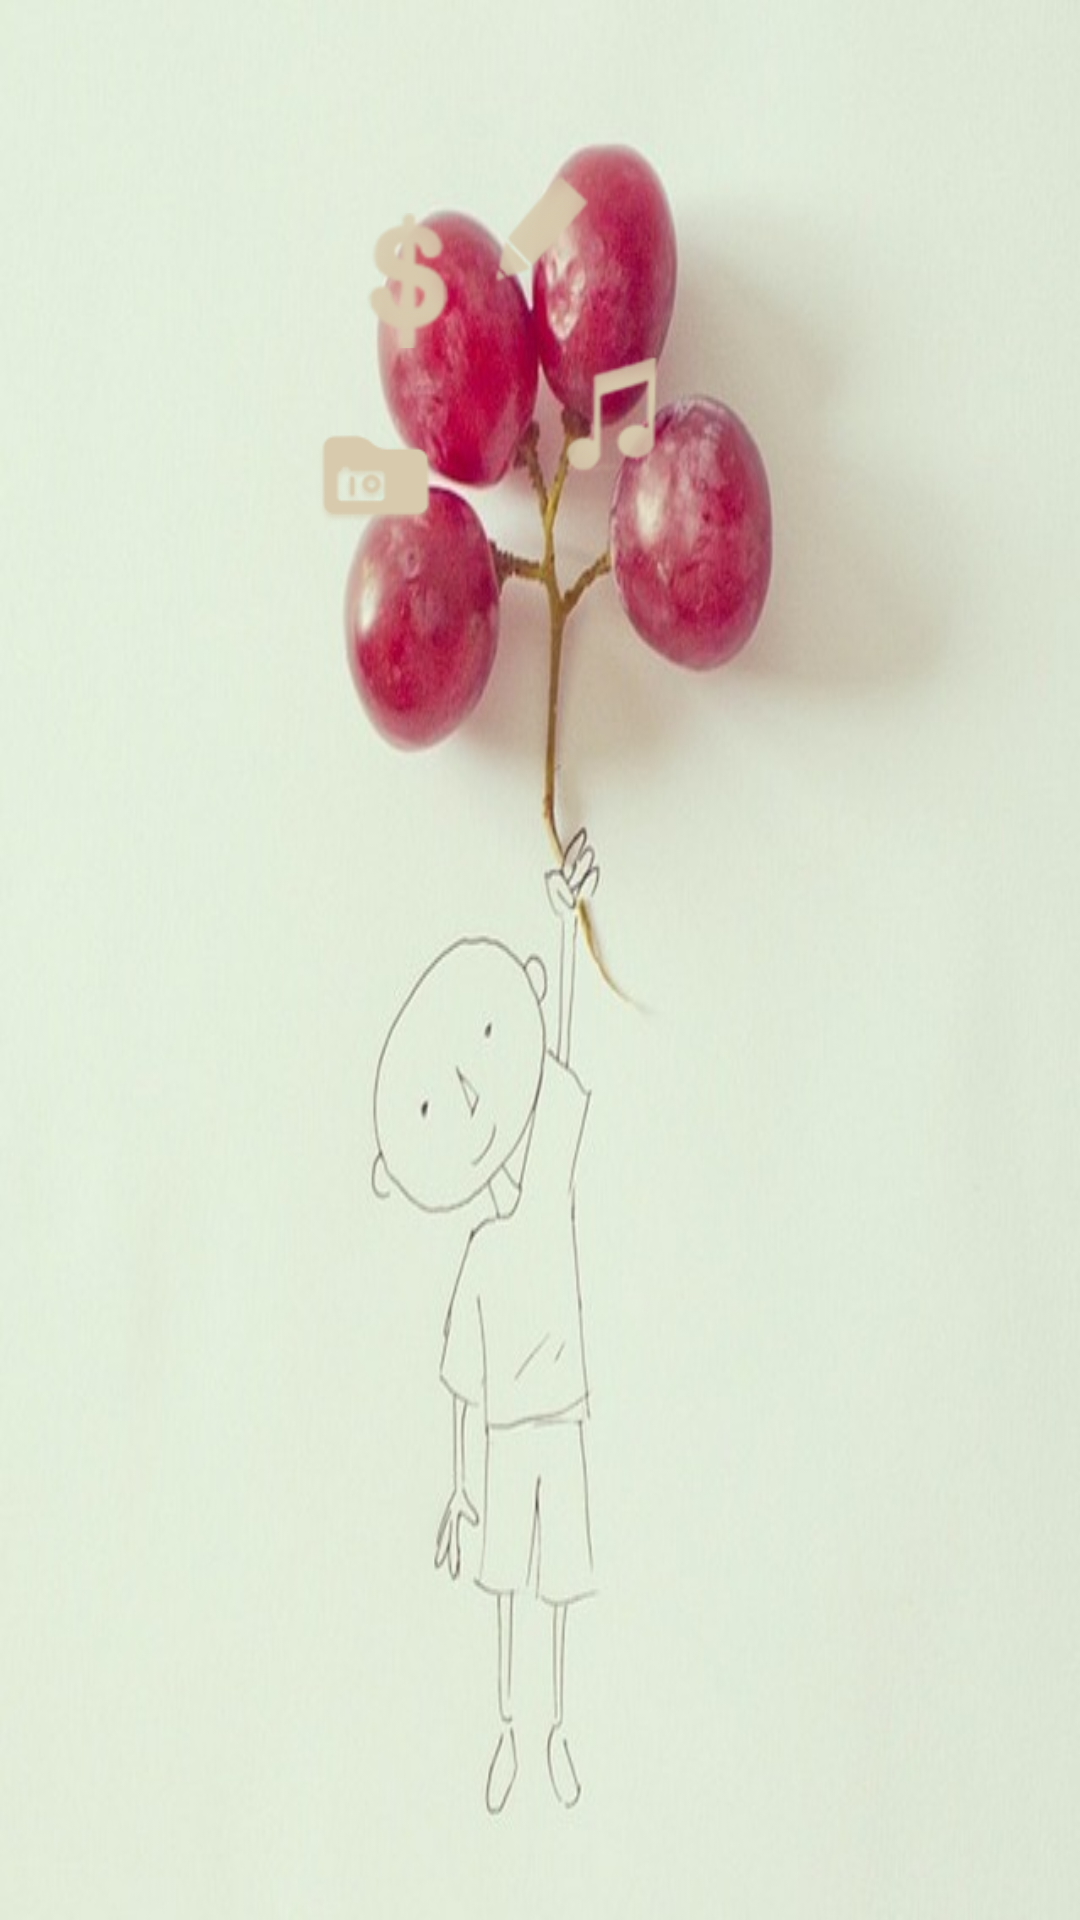

Named icons in this screenshot (1080*1920) and their centers, (x=x, y=y):
money: (x=409, y=280)
music: (x=625, y=406)
pencil: (x=528, y=234)
